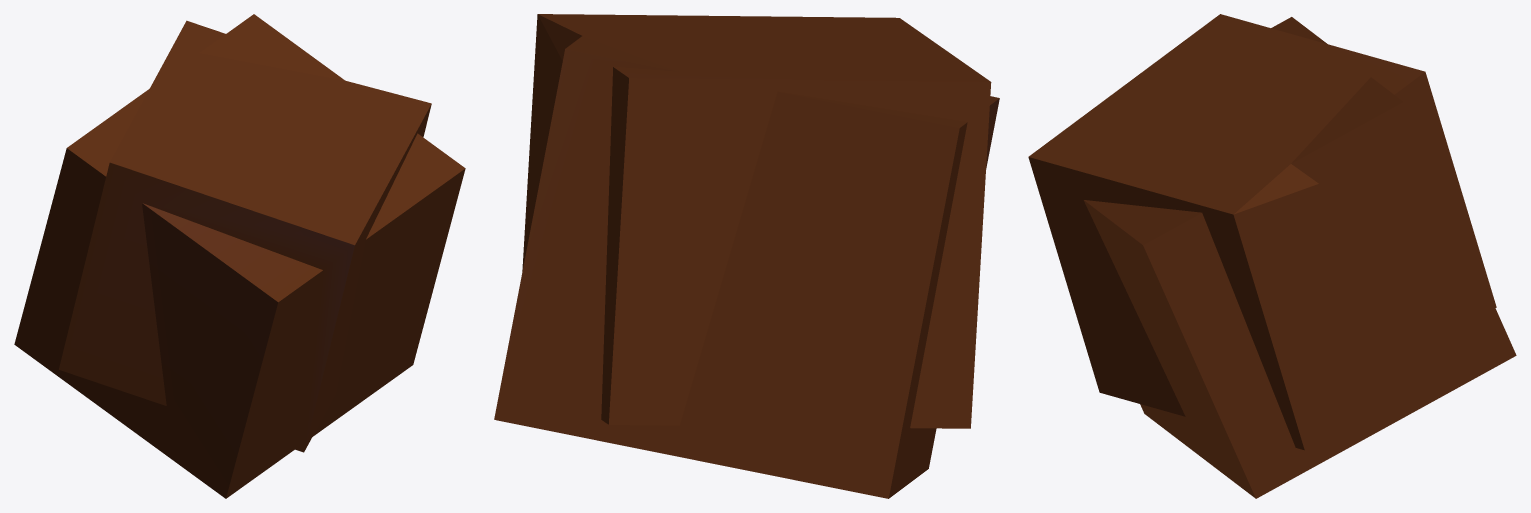
File: iron-ore.glb
3 views of the same model, side by side, from view 1: azimuth 30°, elevation 25°; view 2: azimuth 150°, elevation 25°; view 3: azimuth 270°, elevation 25° (orthographic). The views are drawn at different scales.
Parts seen in each view (by area): view 1: Cube.021; view 2: Cube.021; view 3: Cube.021.
Part boxes in pixels (x1,y1,x2,y2): Cube.021: (14, 14, 465, 498); Cube.021: (494, 14, 999, 498); Cube.021: (1028, 14, 1516, 498).
Size of the model in its own units: 4.42 by 4.4 by 5.
